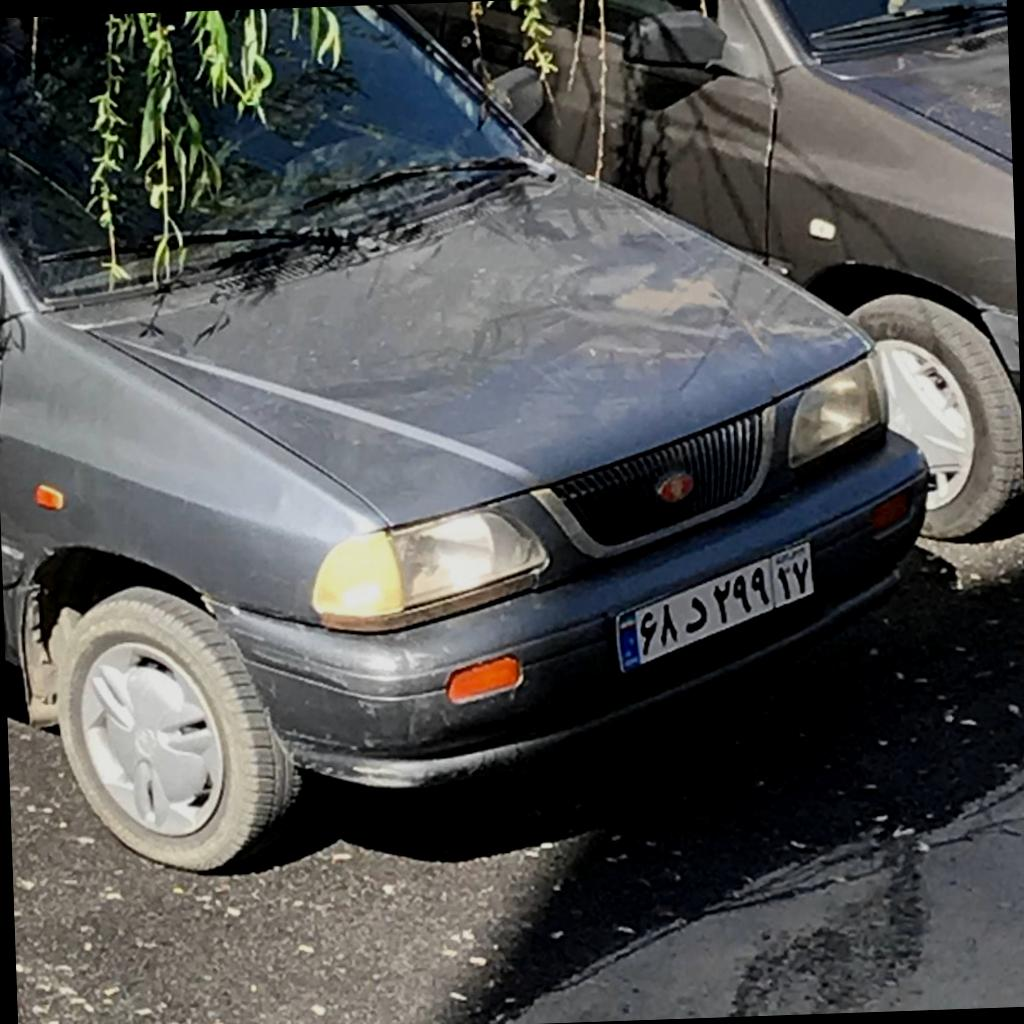Plates: (618, 542, 813, 671)
